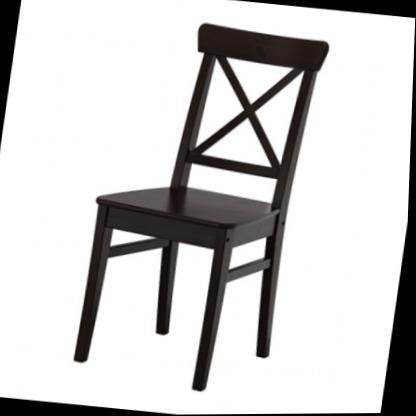Chair: (67, 11, 335, 403)
